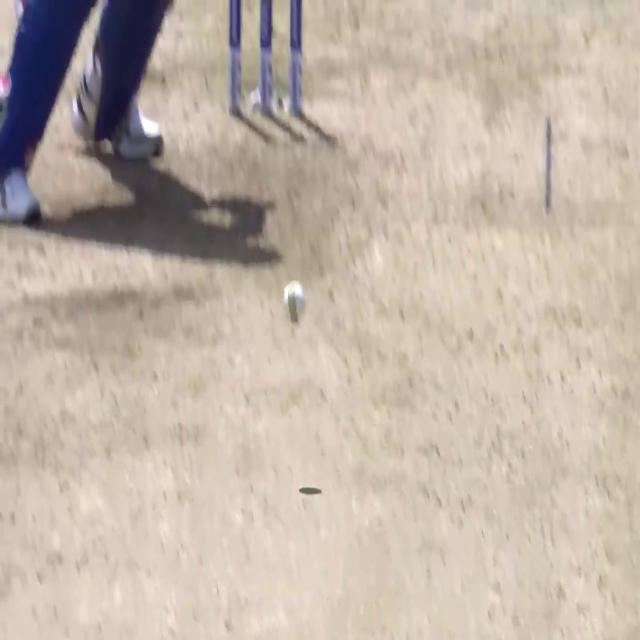ball: (280, 280, 308, 326)
